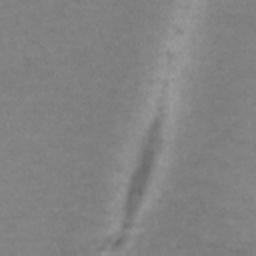Finishing roll printing: (108, 79, 173, 252)
